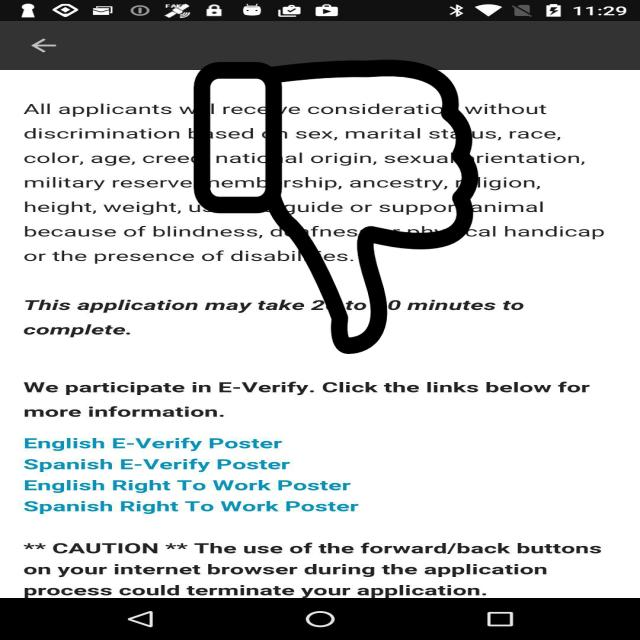obstruction: (190, 60, 482, 354)
